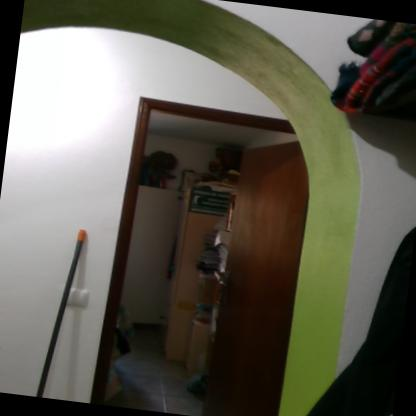open: (80, 61, 341, 415)
